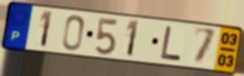0: (61, 14, 86, 52)
1: (38, 10, 54, 50), (125, 19, 140, 60)
5: (93, 15, 122, 56)
7: (192, 26, 216, 67)
L: (159, 25, 184, 62)
